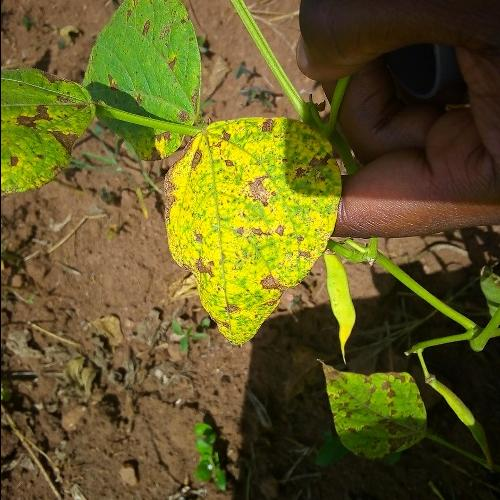hawar: (156, 119, 344, 356)
